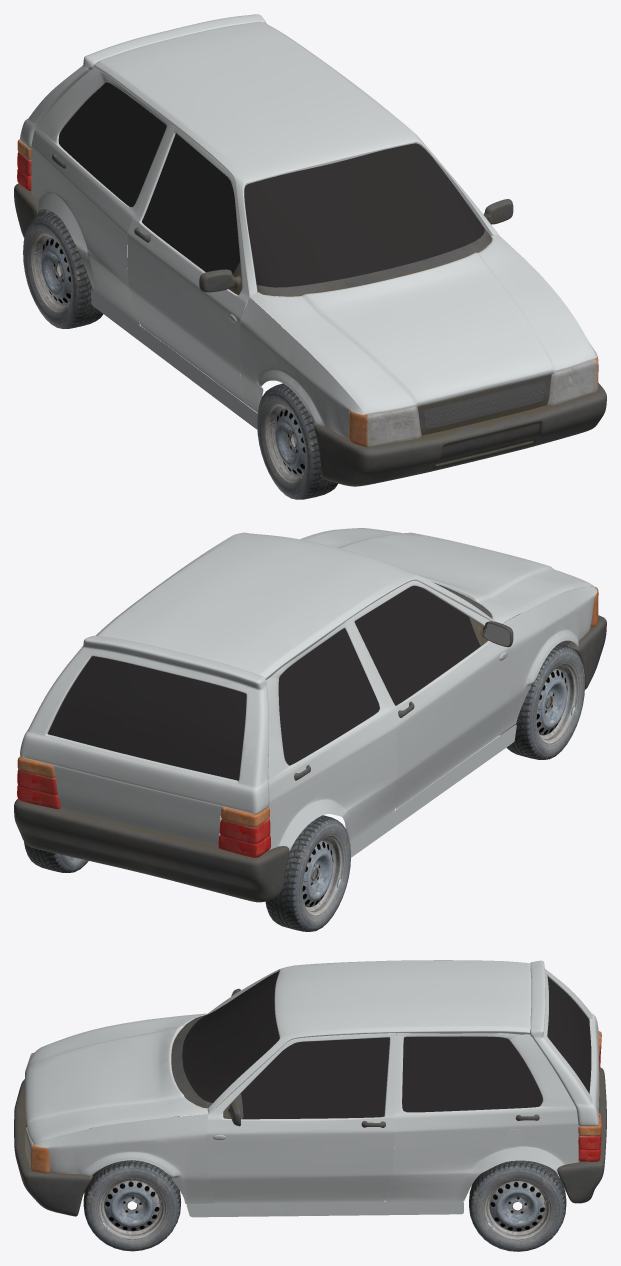
File: uno-2001.glb
3 views of the same model, one above another, from view 1: azimuth 30°, elevation 25°; view 2: azimuth 150°, elevation 25°; view 3: azimuth 270°, elevation 25° (orthographic). The views are drawn at different scales.
Parts seen in each view (by area): view 1: Plano.001, Plano.022, Plano.016, Plano.024, Plano.025, Plano.027, Plano.017, Plano.018, Plano.021, Wheel, Wheel.001, Plano.028 (+8 smaller); view 2: Plano.022, Plano.023, Plano.005, Plano.025, Plano.024, Plano.033, Plano.001, Plano.017, Plano.018, Wheel, Wheel.001, Plano.021 (+3 smaller); view 3: Plano.022, Plano.024, Plano.025, Plano.001, Plano.017, Plano.018, Plano.021, Plano.016, Wheel, Wheel.001, Plano.023, Plano.026 (+7 smaller).
Part boxes in pixels (bbox=[...]): Plano.001: bbox=[250, 235, 595, 414]; Plano.022: bbox=[93, 21, 499, 300]; Plano.016: bbox=[244, 143, 484, 287]; Plano.024: bbox=[127, 124, 249, 401]; Plano.025: bbox=[31, 67, 171, 324]; Plano.027: bbox=[314, 383, 606, 486]; Plano.017: bbox=[142, 133, 240, 274]; Plano.018: bbox=[58, 82, 166, 207]; Plano.021: bbox=[240, 297, 597, 438]; Wheel: bbox=[23, 212, 103, 328]; Wheel.001: bbox=[257, 383, 337, 499]; Plano.028: bbox=[349, 356, 598, 447]; Plano.022: bbox=[96, 532, 495, 679]; Plano.023: bbox=[20, 635, 269, 846]; Plano.005: bbox=[47, 656, 246, 780]; Plano.025: bbox=[266, 620, 397, 850]; Plano.024: bbox=[348, 580, 510, 809]; Plano.033: bbox=[14, 799, 289, 902]; Plano.001: bbox=[300, 528, 595, 623]; Plano.017: bbox=[354, 585, 480, 705]; Plano.018: bbox=[278, 628, 379, 765]; Wheel: bbox=[24, 815, 350, 931]; Wheel.001: bbox=[501, 644, 584, 759]; Plano.021: bbox=[498, 586, 597, 735]; Plano.022: bbox=[207, 960, 531, 1113]; Plano.024: bbox=[207, 1033, 396, 1203]; Plano.025: bbox=[385, 1033, 578, 1201]; Plano.001: bbox=[25, 1013, 208, 1144]; Plano.017: bbox=[240, 1037, 389, 1119]; Plano.018: bbox=[402, 1036, 542, 1112]; Plano.021: bbox=[35, 1019, 214, 1203]; Plano.016: bbox=[182, 971, 279, 1103]; Wheel: bbox=[469, 1160, 566, 1251]; Wheel.001: bbox=[83, 1116, 181, 1251]; Plano.023: bbox=[530, 960, 599, 1126]; Plano.026: bbox=[186, 1201, 463, 1217].
Bounding box in the file's own units: 1.32 × 1.03 × 2.64.
4 materials, 3 textured.
